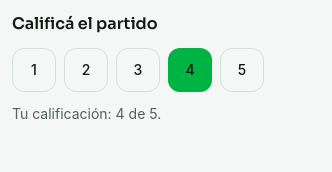
Test: Guardar y editar › edita una nota existente y deja la nueva como única marcada
The width and height of the screenshot is (332, 172).
Click the button named "2 de 5": [86, 70] box 64,48 -> 108,92
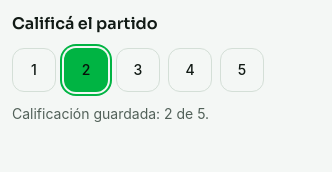
Expected: the text "Calificación guardada: 2 de 5." is shown, 12,105 -> 209,122
